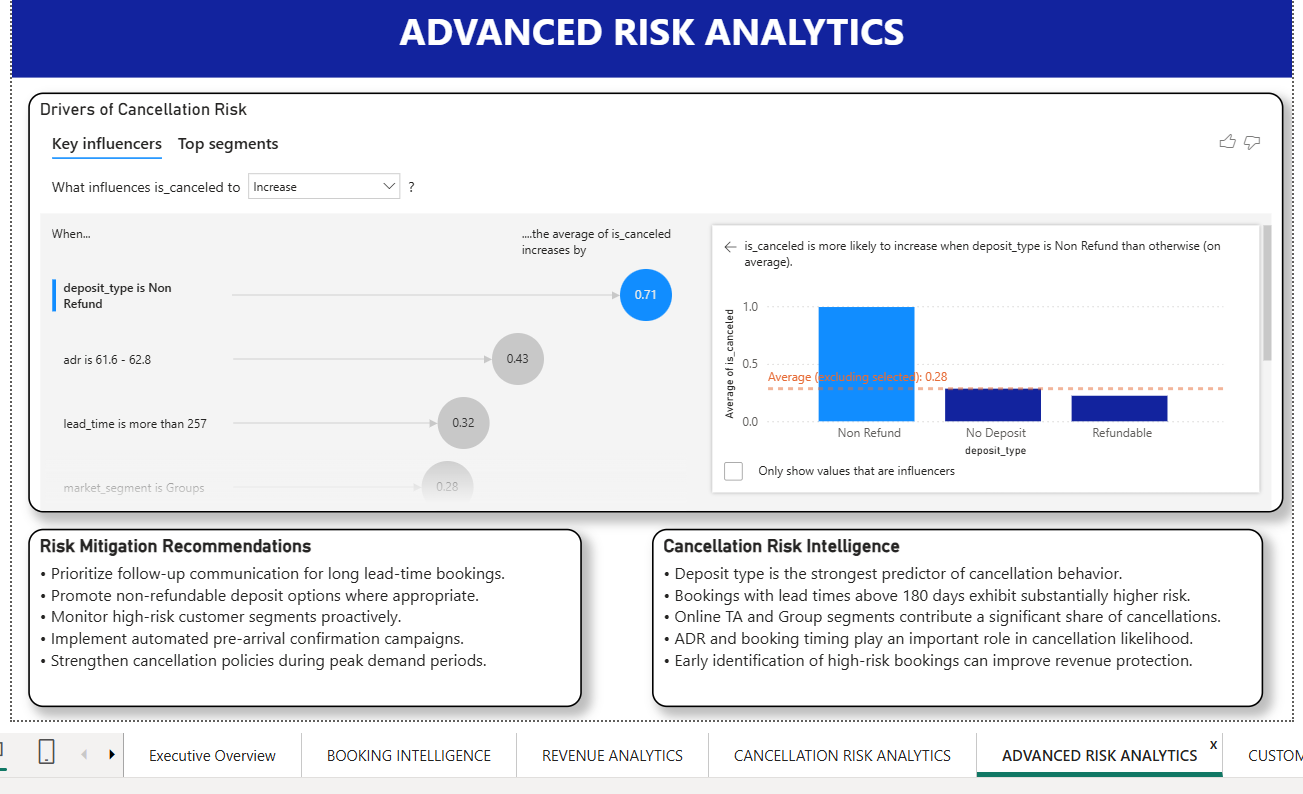

What the dashboard file says about the page in this screenshot:
{"tool":"powerbi","page":{"name":"ADVANCED RISK ANALYTICS","canvas":[1280,720],"ordinal":4},"visuals":[{"type":"keyDriversVisual","title":"Drivers of Cancellation Risk","fields":{"Target":["final_hotel_analytics_dataset.is_canceled"],"ExplainBy":["final_hotel_analytics_dataset.lead_time","final_hotel_analytics_dataset.deposit_type","final_hotel_analytics_dataset.market_segment","final_hotel_analytics_dataset.customer_type","final_hotel_analytics_dataset.hotel","final_hotel_analytics_dataset.adr"]},"box":[16.2,92.5,1255,420],"z":0},{"type":"textbox","box":[0,0,1280,77.5],"z":1},{"type":"textbox","title":"Risk Mitigation Recommendations","box":[16.2,528.8,553.8,178.8],"z":2},{"type":"textbox","title":"Cancellation Risk Intelligence","box":[640,528.8,611.2,178.8],"z":3}]}

Visuals, with their boxes in screenshot pixels (x1, y1, x2, y2):
"Drivers of Cancellation Risk" keyDriversVisual: {"x1": 23, "y1": 89, "x2": 1283, "y2": 511}
textbox: {"x1": 7, "y1": 0, "x2": 1292, "y2": 74}
"Risk Mitigation Recommendations" textbox: {"x1": 23, "y1": 527, "x2": 579, "y2": 707}
"Cancellation Risk Intelligence" textbox: {"x1": 649, "y1": 527, "x2": 1263, "y2": 707}
